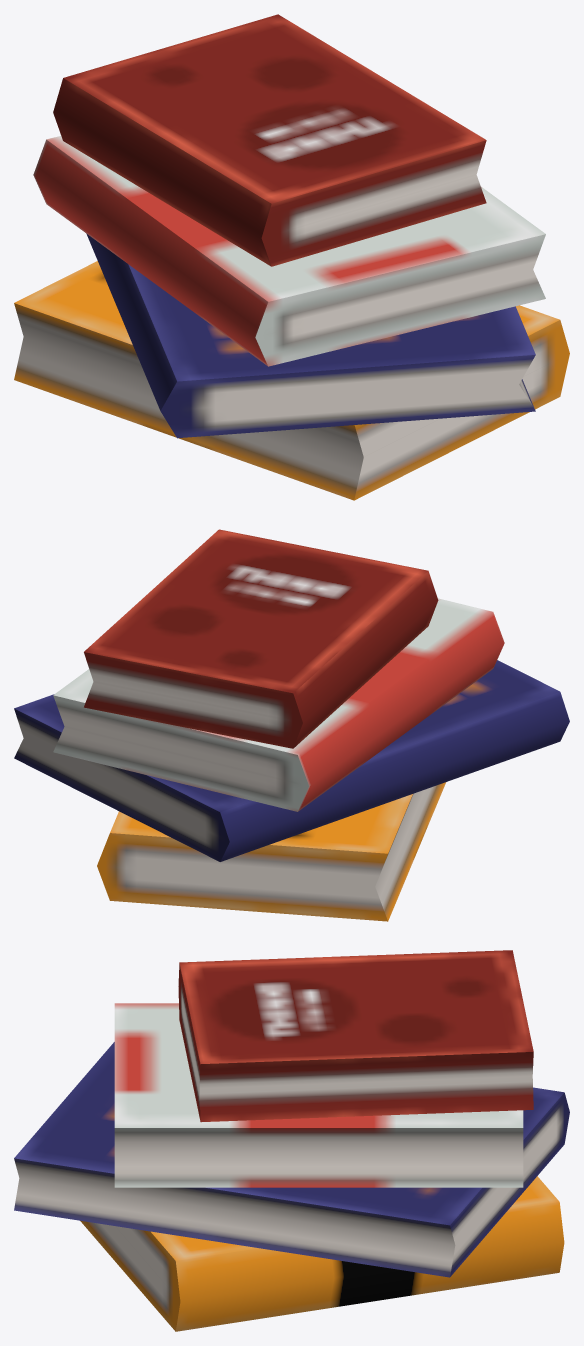
Rendered from TNP0110014.FBX.
3 views of the same model, one above another, from view 1: azimuth 30°, elevation 25°; view 2: azimuth 150°, elevation 25°; view 3: azimuth 270°, elevation 25° (orthographic). The views are drawn at different scales.
Parts seen in each view (by area): view 1: smTNP0110014; view 2: smTNP0110014; view 3: smTNP0110014.
Boxes of the visible parts, bbox=[...] form: smTNP0110014: bbox=[14, 14, 569, 500]; smTNP0110014: bbox=[14, 529, 569, 921]; smTNP0110014: bbox=[14, 950, 569, 1331].
Bounding box in the file's own units: 37.13 × 20.18 × 42.27.
1 material, 1 textured.
